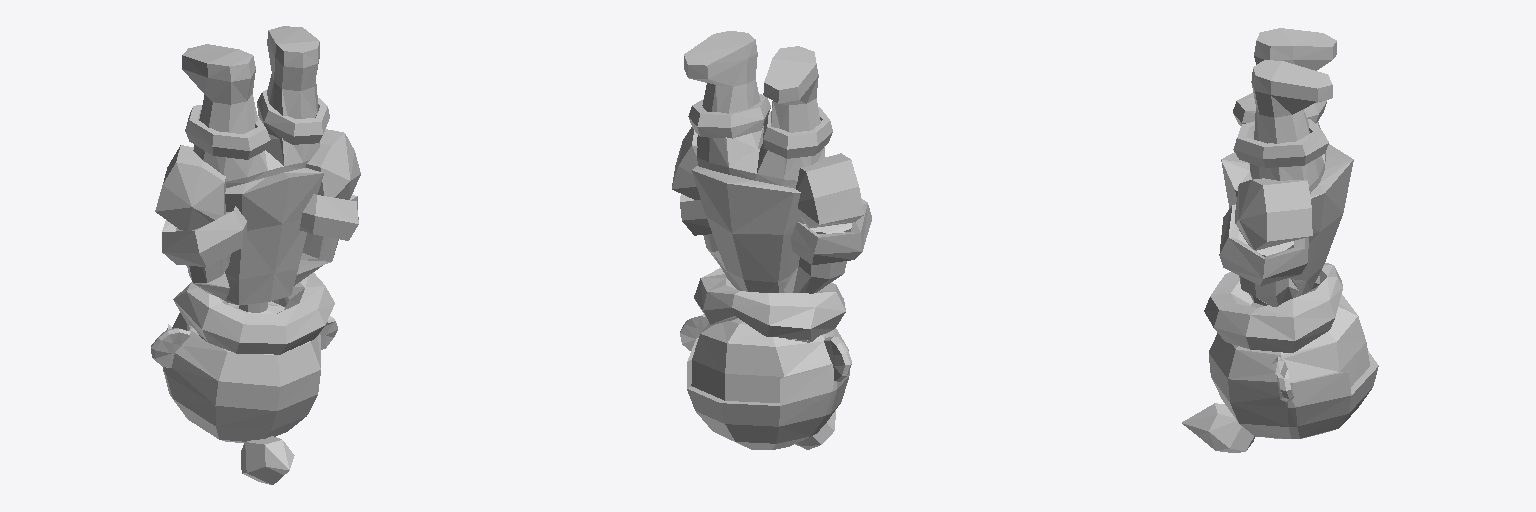
The model's file is eikastanding_000392.obj.
3 renders of one model, left to right at view 1: azimuth 30°, elevation 25°; view 2: azimuth 150°, elevation 25°; view 3: azimuth 270°, elevation 25°, orthographic.
Parts seen in each view (by area): view 1: Cylinder; view 2: Cylinder; view 3: Cylinder.
Boxes of the visible parts, box(x1,y1,x2,y2) form: Cylinder: box(151, 26, 360, 484); Cylinder: box(672, 31, 871, 449); Cylinder: box(1182, 28, 1378, 452).
Size of the model in its own units: 27.74 by 55.25 by 24.06.